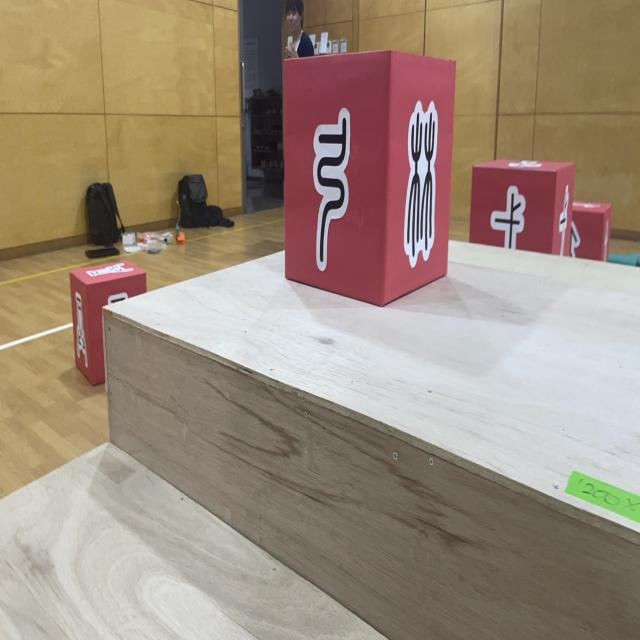12: (572, 220, 582, 257)
2: (403, 97, 439, 271)
4: (310, 105, 351, 273)
8: (74, 291, 90, 372), (86, 262, 135, 278)
9: (490, 183, 528, 250), (559, 183, 570, 256)
fighter: (282, 49, 457, 307), (469, 158, 574, 256), (70, 259, 147, 385), (570, 199, 612, 263)
